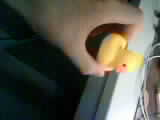duck: (89, 30, 142, 81)
